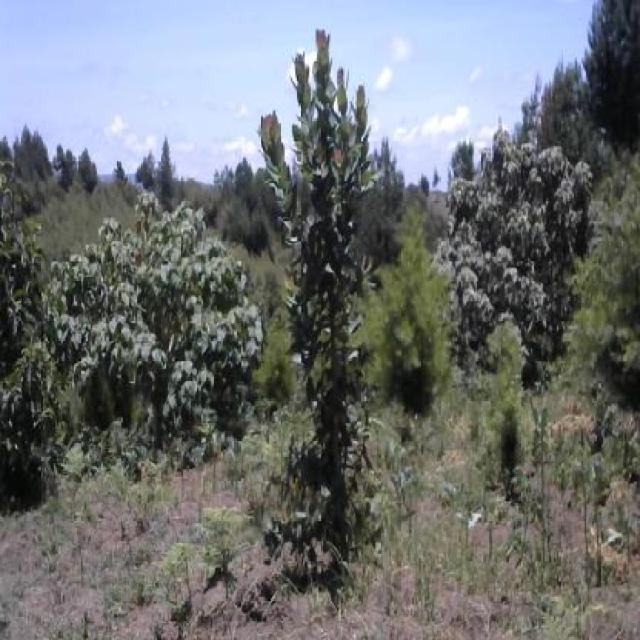tree trunk: (302, 133, 358, 576)
